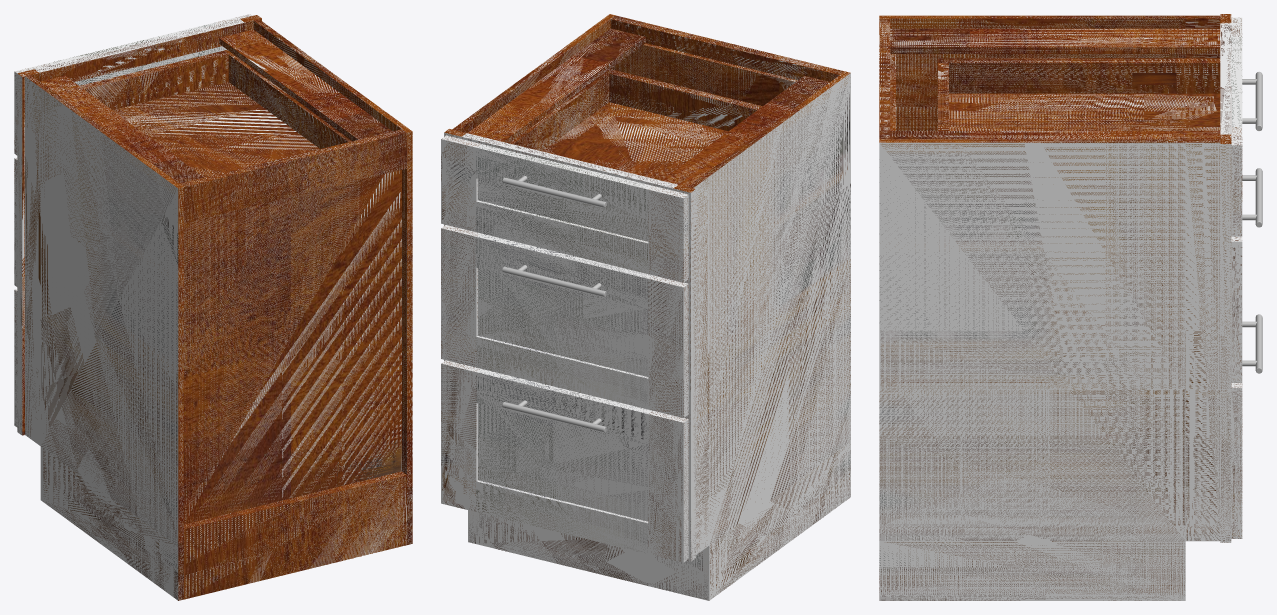
3 renders of one model, left to right at view 1: azimuth 30°, elevation 25°; view 2: azimuth 150°, elevation 25°; view 3: azimuth 270°, elevation 25°, orthographic. The views are drawn at different scales.
Visible parts, largest first — view 1: mesh4_mesh4-geometry, mesh7_mesh7-geometry, mesh12_mesh12-geometry, mesh19_mesh19-geometry, mesh3_mesh3-geometry, mesh8_mesh8-geometry, mesh6_mesh6-geometry, mesh10_mesh10-geometry, mesh14_mesh14-geometry, mesh17_mesh17-geometry, mesh5_mesh5-geometry, mesh15_mesh15-geometry (+5 smaller); view 2: mesh7_mesh7-geometry, mesh26_mesh26-geometry, mesh22_mesh22-geometry, mesh23_mesh23-geometry, mesh21_mesh21-geometry, mesh24_mesh24-geometry, mesh8_mesh8-geometry, mesh19_mesh19-geometry, mesh13_mesh13-geometry, mesh14_mesh14-geometry, mesh32_mesh32-geometry, mesh30_mesh30-geometry (+14 smaller); view 3: mesh10_mesh10-geometry, mesh11_mesh11-geometry, mesh9_mesh9-geometry, mesh19_mesh19-geometry, mesh16_mesh16-geometry, mesh7_mesh7-geometry, mesh15_mesh15-geometry, mesh2_mesh2-geometry, mesh24_mesh24-geometry, mesh14_mesh14-geometry, mesh3_mesh3-geometry, mesh5_mesh5-geometry (+6 smaller).
Boxes of the visible parts, x1,y1,x2,y2 form: mesh4_mesh4-geometry: (184, 170, 401, 524); mesh7_mesh7-geometry: (40, 86, 183, 546); mesh12_mesh12-geometry: (184, 471, 406, 599); mesh19_mesh19-geometry: (113, 82, 319, 177); mesh3_mesh3-geometry: (179, 129, 406, 222); mesh8_mesh8-geometry: (40, 447, 183, 600); mesh6_mesh6-geometry: (25, 75, 45, 445); mesh10_mesh10-geometry: (269, 30, 412, 491); mesh14_mesh14-geometry: (219, 29, 392, 141); mesh17_mesh17-geometry: (80, 50, 228, 110); mesh5_mesh5-geometry: (34, 19, 244, 82); mesh15_mesh15-geometry: (40, 75, 203, 183); mesh7_mesh7-geometry: (704, 71, 850, 544); mesh26_mesh26-geometry: (478, 268, 648, 521); mesh22_mesh22-geometry: (648, 275, 688, 562); mesh23_mesh23-geometry: (476, 335, 648, 553); mesh21_mesh21-geometry: (476, 233, 652, 444); mesh24_mesh24-geometry: (441, 225, 480, 511); mesh8_mesh8-geometry: (703, 442, 850, 600); mesh19_mesh19-geometry: (542, 102, 727, 180); mesh13_mesh13-geometry: (474, 511, 703, 599); mesh14_mesh14-geometry: (468, 28, 645, 143); mesh32_mesh32-geometry: (476, 200, 648, 273); mesh30_mesh30-geometry: (476, 144, 652, 220); mesh10_mesh10-geometry: (879, 139, 1185, 541); mesh11_mesh11-geometry: (879, 541, 1185, 600); mesh9_mesh9-geometry: (1185, 139, 1220, 541); mesh19_mesh19-geometry: (949, 93, 1220, 130); mesh16_mesh16-geometry: (938, 58, 1220, 93); mesh7_mesh7-geometry: (879, 15, 1185, 130); mesh15_mesh15-geometry: (890, 28, 1220, 53); mesh2_mesh2-geometry: (1220, 14, 1231, 542); mesh24_mesh24-geometry: (1231, 236, 1242, 538); mesh14_mesh14-geometry: (890, 131, 1220, 139); mesh3_mesh3-geometry: (879, 18, 890, 139); mesh5_mesh5-geometry: (1220, 23, 1231, 134).
Size of the model in its own units: 0.4366 by 0.7172 by 0.5431.
